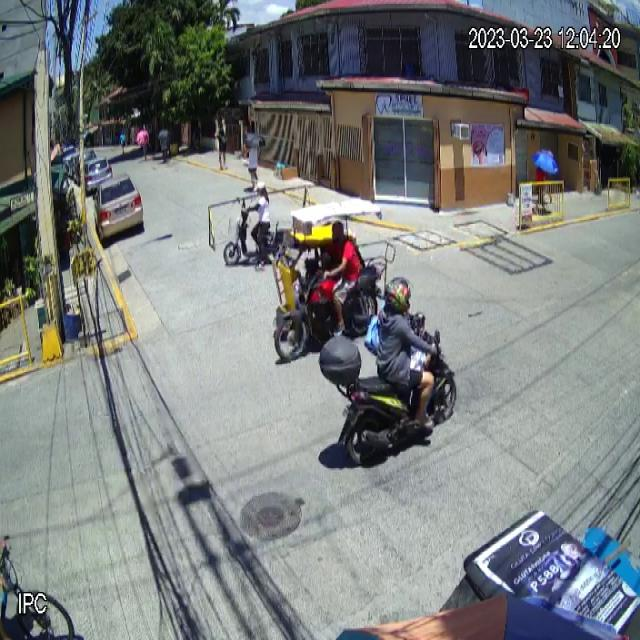Motorcycle: (319, 332, 457, 466)
Tricycle: (272, 198, 397, 362)
